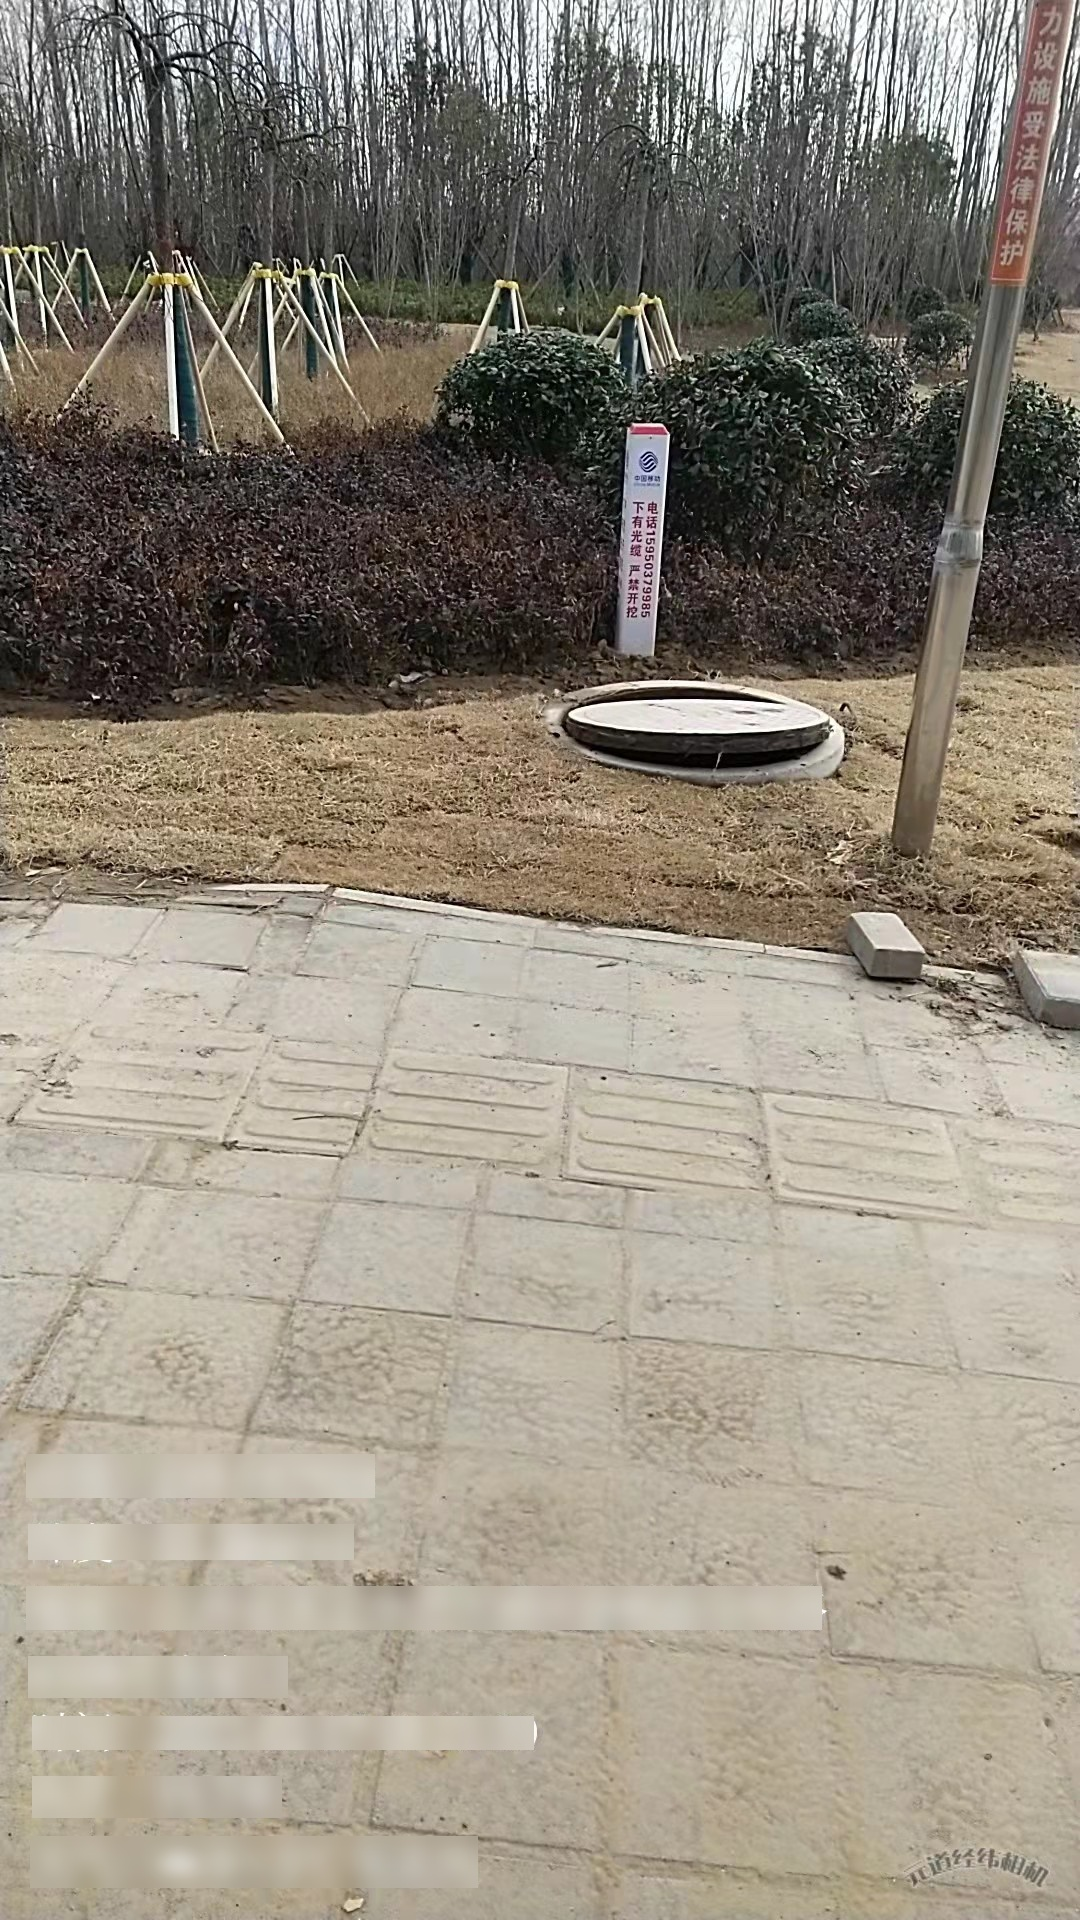uncovered: (545, 667, 847, 793)
